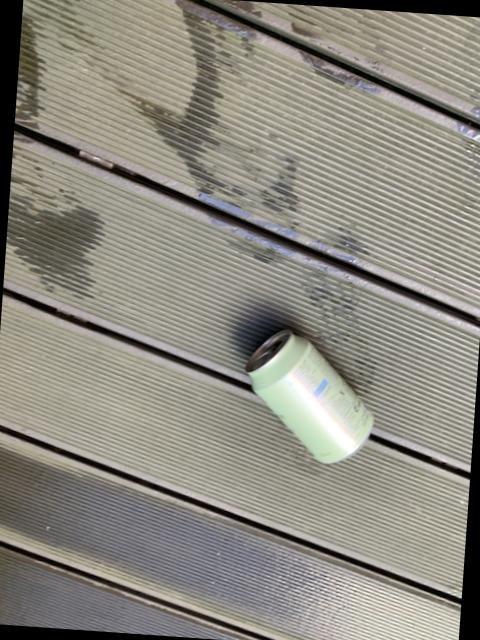metal: (246, 328, 371, 462)
